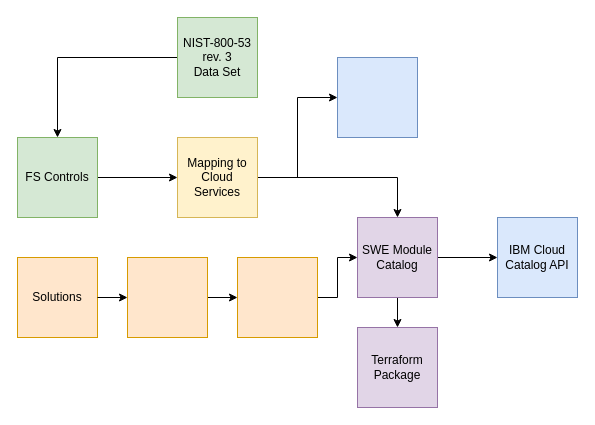
This 595x425 diagram has some shape labels left out. Each missing label, with the centre of its shape:
Bill of Materials (BOMs): point (277, 297)
Evidence Proof (SCC): point (377, 97)
Reference Architectures: point (167, 297)
